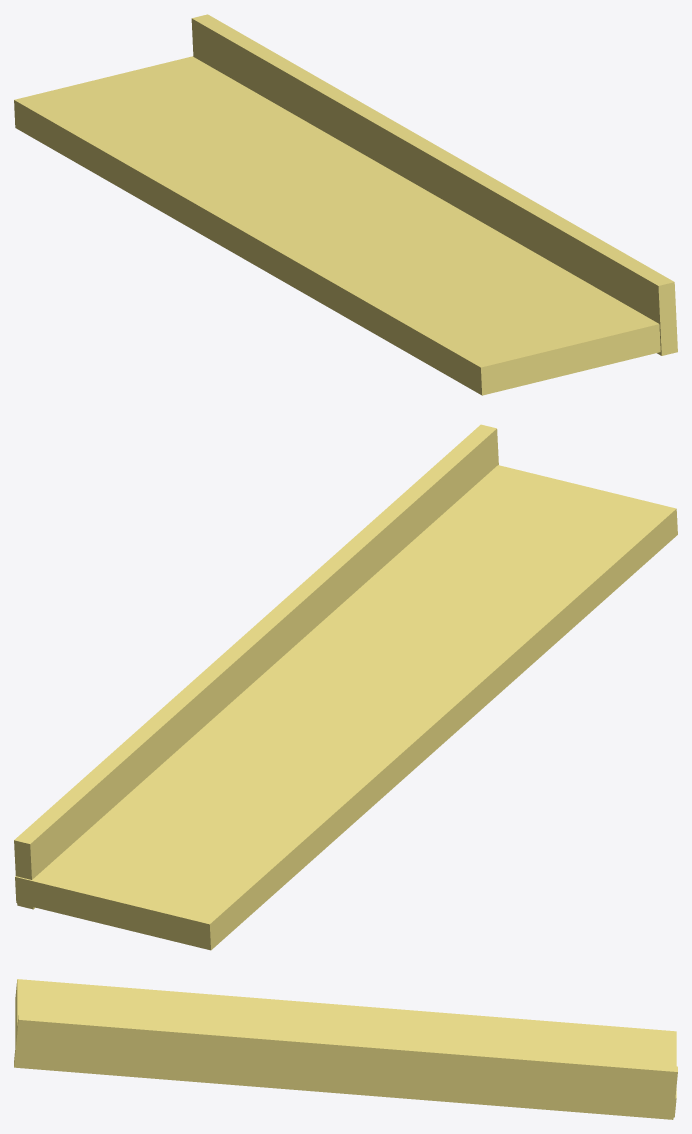
Rendered from Toy_Slide.fbx.
3 views of the same model, one above another, from view 1: azimuth 30°, elevation 25°; view 2: azimuth 150°, elevation 25°; view 3: azimuth 270°, elevation 25° (orthographic). The views are drawn at different scales.
Parts seen in each view (by area): view 1: Toy_Slide; view 2: Toy_Slide; view 3: Toy_Slide.
Part boxes in pixels (x1=…): Toy_Slide: x1=14, y1=14, x2=677, y2=395; Toy_Slide: x1=14, y1=424, x2=677, y2=950; Toy_Slide: x1=14, y1=979, x2=677, y2=1119.
Size of the model in its own units: 1.2 by 0.8343 by 5.02.
